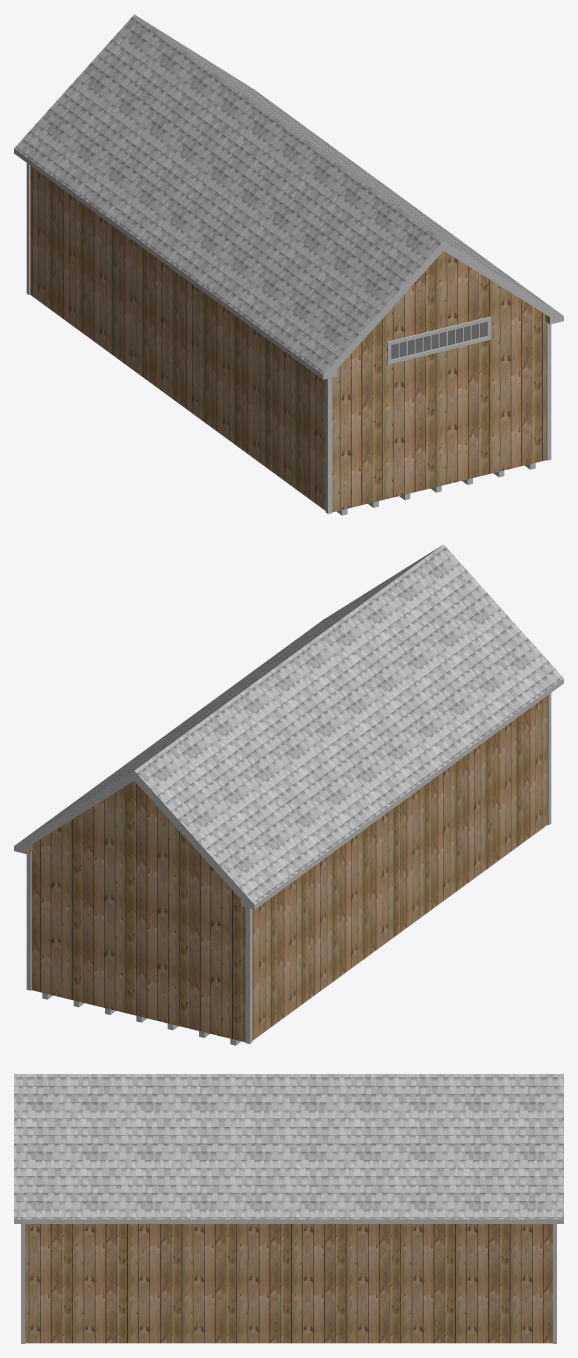
The model's file is Elite Garage_14x32.obj.
3 renders of one model, top to bottom at view 1: azimuth 30°, elevation 25°; view 2: azimuth 150°, elevation 25°; view 3: azimuth 270°, elevation 25°, orthographic. The views are drawn at different scales.
Parts seen in each view (by area): view 1: Shed, Roof, Sides, Trim, Windows; view 2: Shed, Roof, Sides, Trim; view 3: Roof, Shed, Sides, Trim.
Part boxes in pixels (x1,y1,x2,y2): Shed: (30, 165, 549, 512); Roof: (14, 14, 561, 374); Sides: (14, 148, 563, 379); Trim: (26, 163, 551, 513); Windows: (391, 322, 486, 359); Shed: (28, 695, 547, 1042); Roof: (16, 544, 563, 904); Sides: (14, 678, 563, 909); Trim: (26, 693, 551, 1043); Roof: (14, 1074, 563, 1219); Shed: (25, 1224, 552, 1343); Sides: (14, 1219, 563, 1223); Trim: (21, 1224, 556, 1343).
Size of the model in its own units: 4.52 by 4.57 by 10.06.
